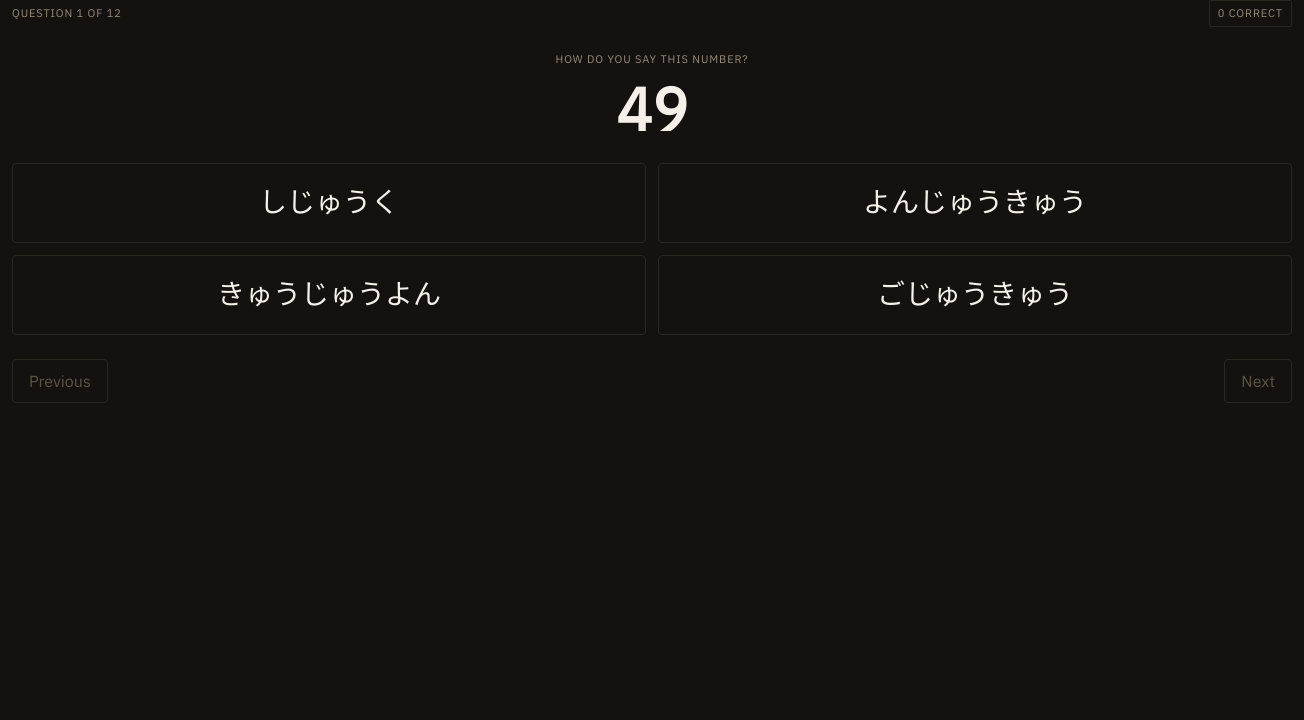
it: The numbers drill › locks the options once answered
Click the 1st button: (329, 203) [12, 163, 646, 243]
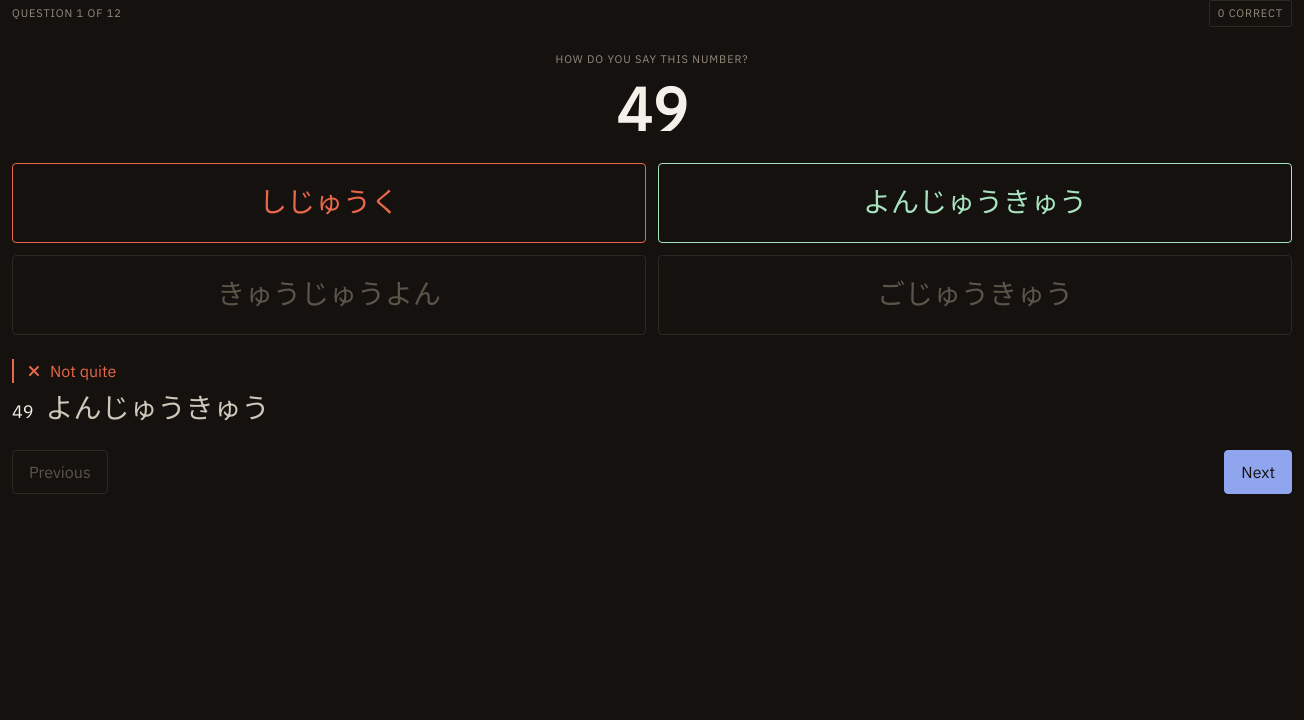
Expected: the 1st button is disabled, [12, 163, 646, 243]
Expected: the 2nd button is disabled, [658, 163, 1292, 243]
Expected: the 3rd button is disabled, [12, 255, 646, 335]
